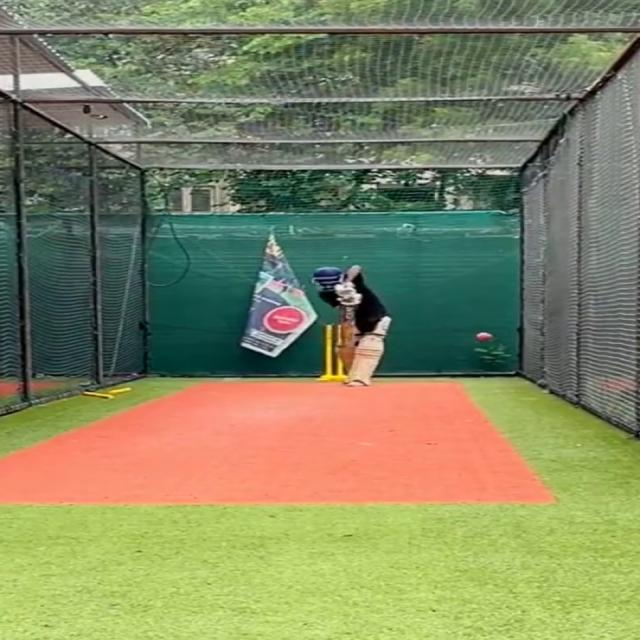ball: (472, 331, 491, 342)
stump: (320, 324, 345, 382)
